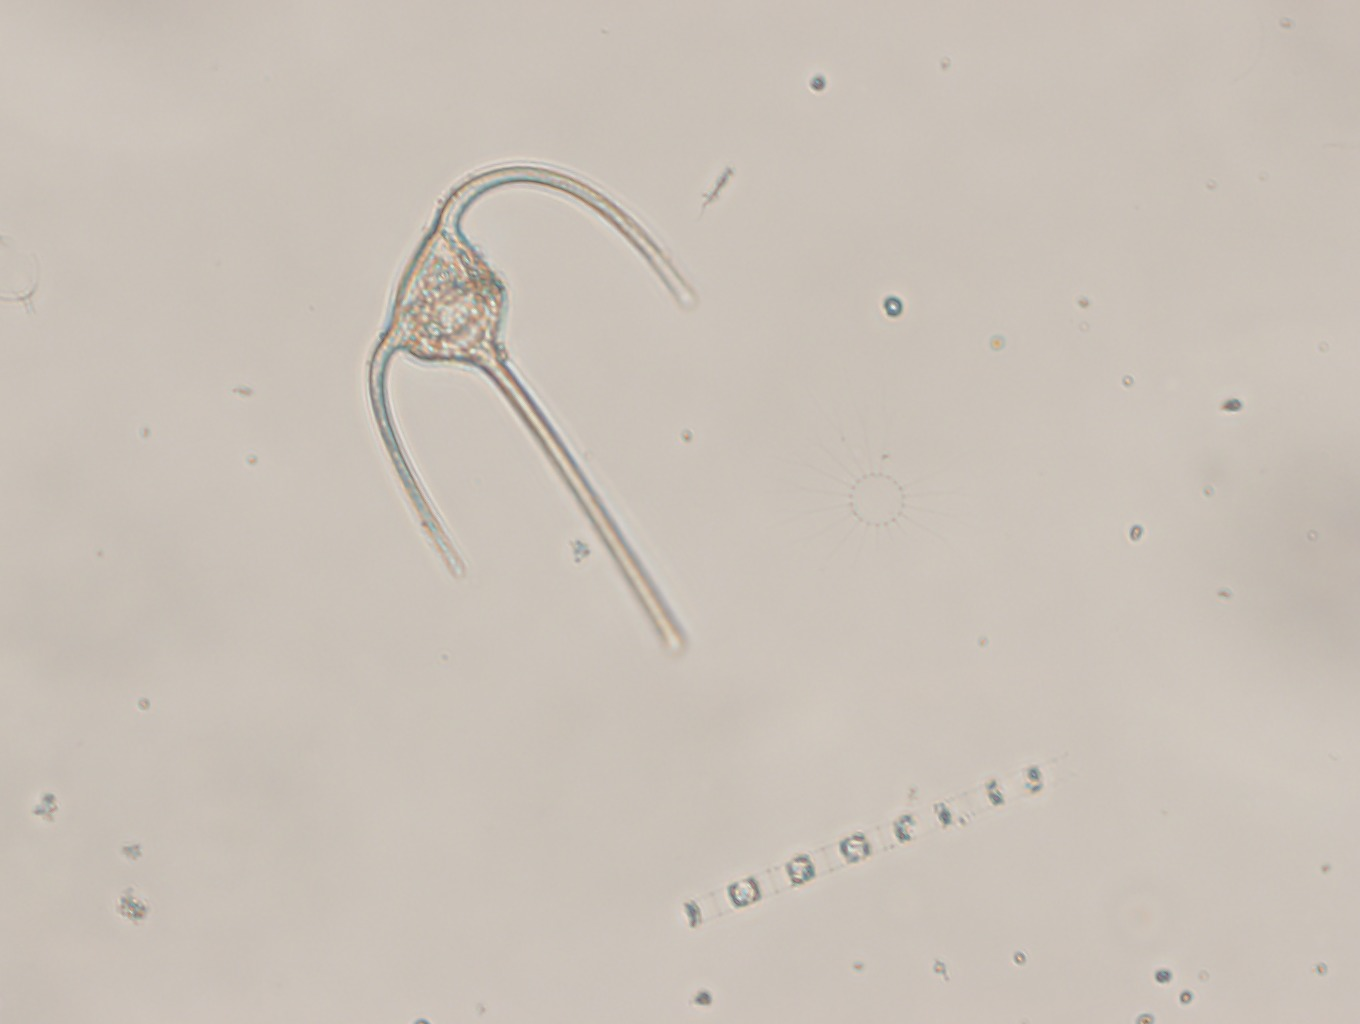ceratium trichoceros: (359, 153, 705, 666)
skeletonema: (662, 757, 1060, 931)
